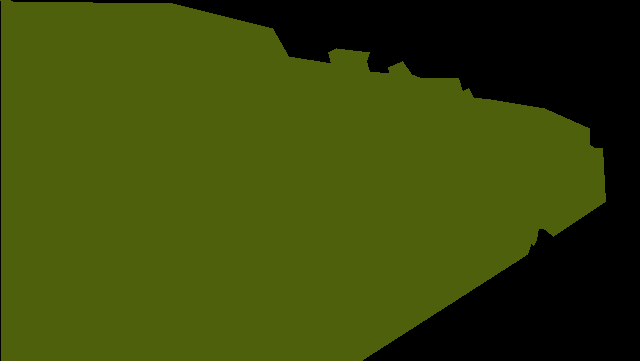Train: (0, 0, 605, 361)
